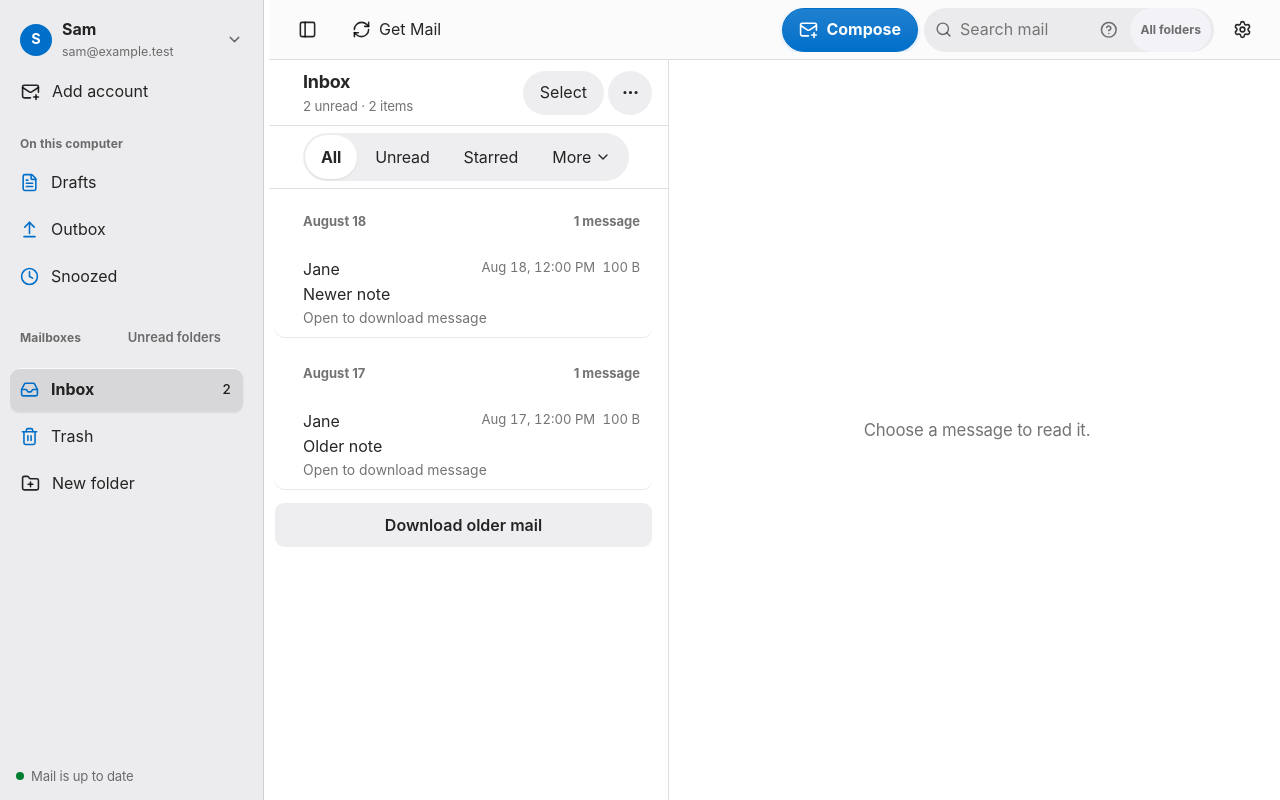
Test: mail shell › opens the next and previous message from the reader
The width and height of the screenshot is (1280, 800).
Click the option "Newer note". click: (321, 269)
box: [275,248,652,338]
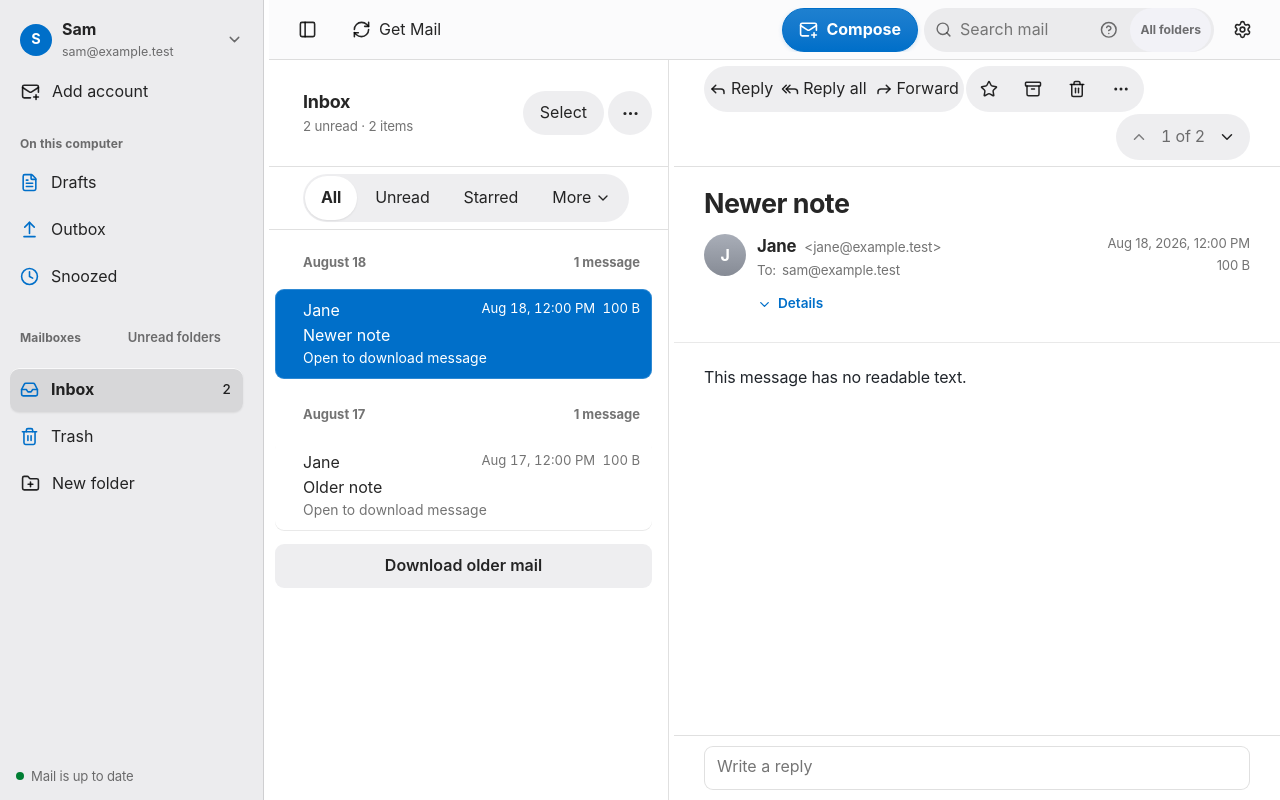
Check: the heading "Newer note" is shown, box [704,187,849,219]
Check: the button named "Previous message" is disabled, box [1117,115,1161,159]
Click the button named "Next message". click: (1227, 137)
box: [1205,115,1249,159]
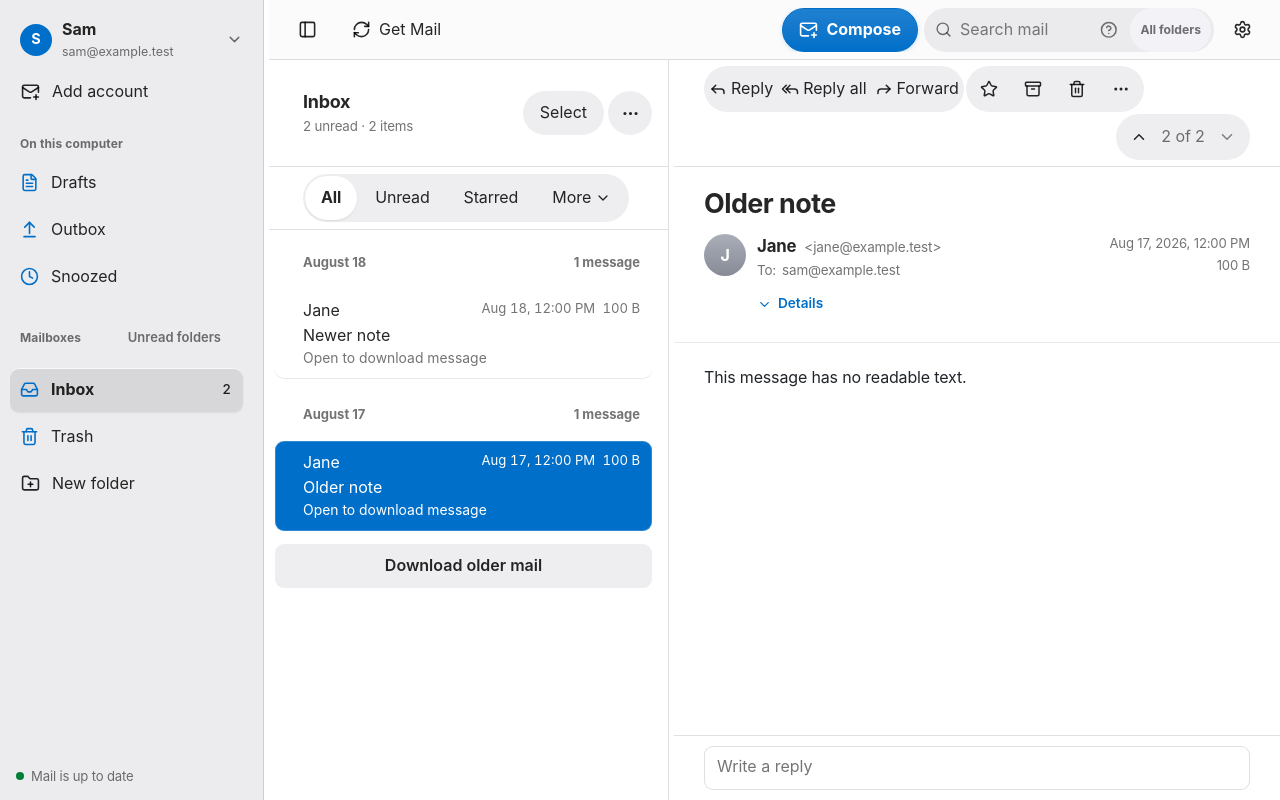
Check: the heading "Older note" is shown, box [704,187,836,219]
Click the button named "Previous message". click: (1139, 137)
box: [1117,115,1161,159]
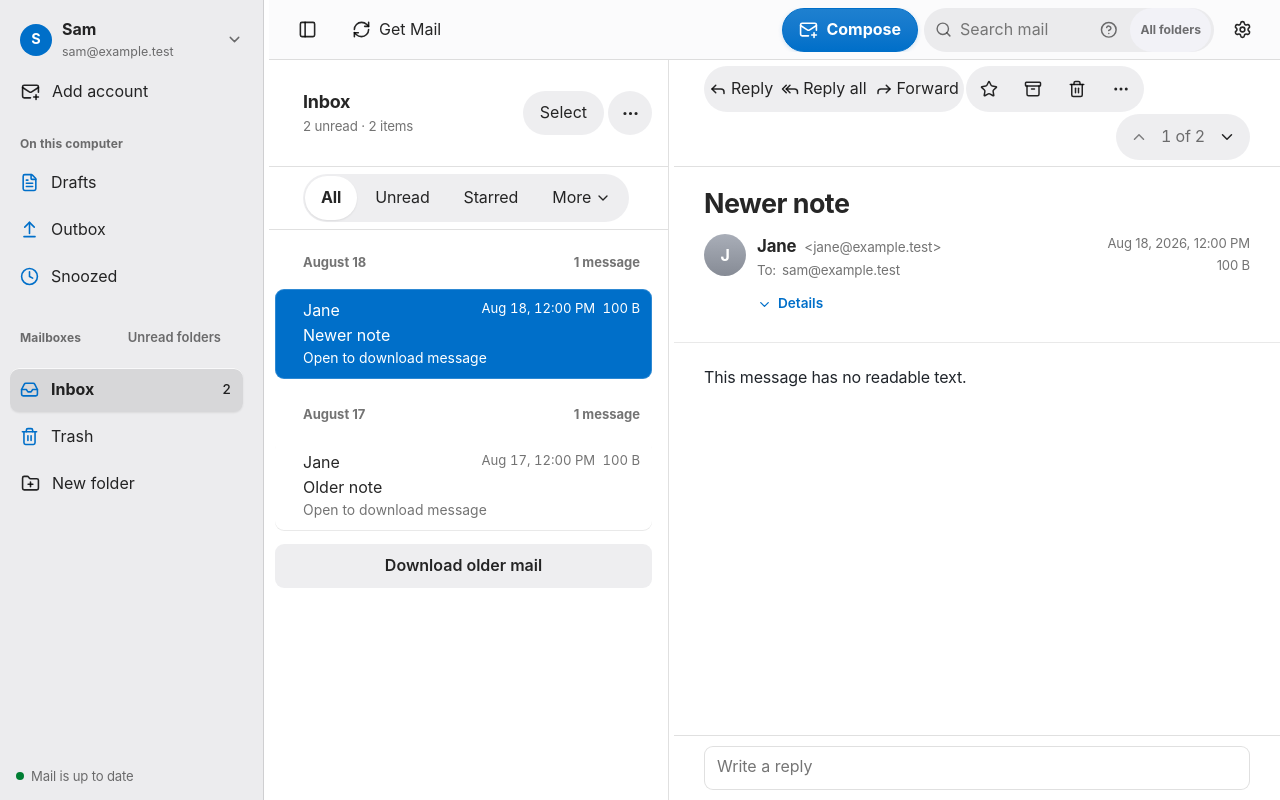
Check: the heading "Newer note" is shown, box [704,187,849,219]
